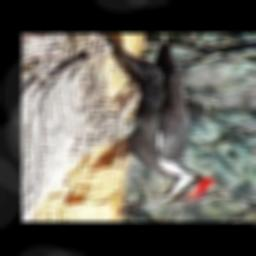Woodpecker: (104, 34, 212, 211)
